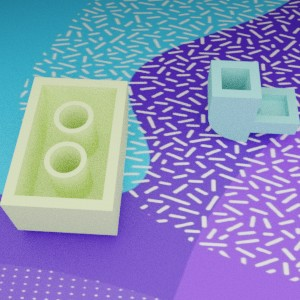lego: (0, 77, 128, 235), (207, 60, 300, 142)
